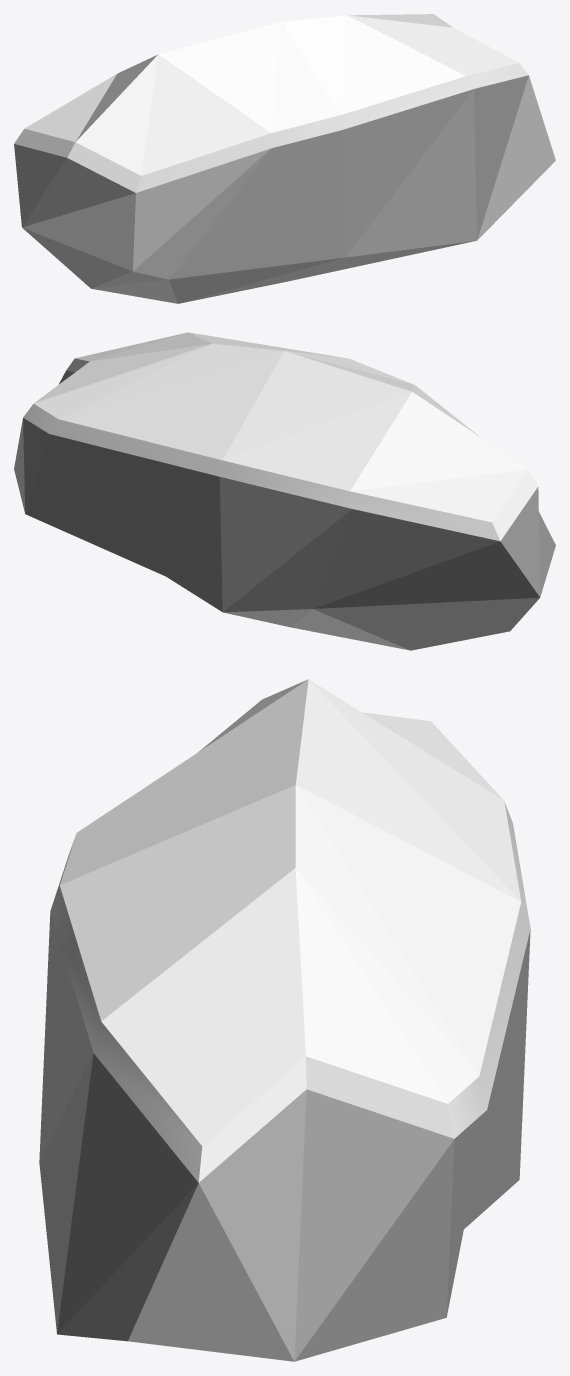
File: Rock_Mid_Snow_4.fbx
The picture shows the model from 3 angles, top to bottom: view 1: azimuth 30°, elevation 25°; view 2: azimuth 150°, elevation 25°; view 3: azimuth 270°, elevation 25°; orthographic projection. The views are drawn at different scales.
Visible parts, largest first — view 1: Rock_Mid_Snow_4; view 2: Rock_Mid_Snow_4; view 3: Rock_Mid_Snow_4.
Boxes of the visible parts, box(x1,y1,x2,y2) form: Rock_Mid_Snow_4: box(14, 14, 555, 303); Rock_Mid_Snow_4: box(14, 332, 555, 650); Rock_Mid_Snow_4: box(39, 679, 530, 1361).
Size of the model in its own units: 4.1 by 2.04 by 1.77.
